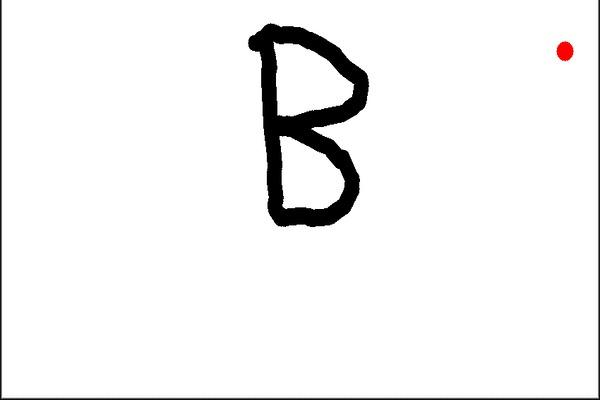B: (238, 16, 377, 233)
